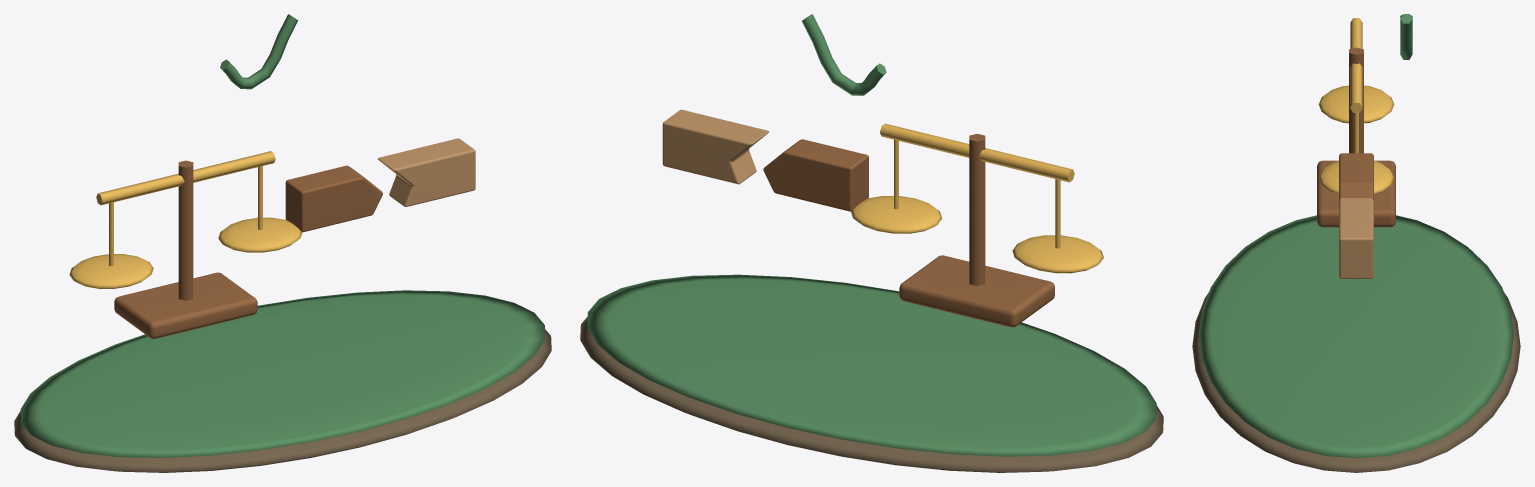
The model's file is complete-third-judged-cut.glb.
The picture shows the model from 3 angles, left to right: view 1: azimuth 30°, elevation 25°; view 2: azimuth 150°, elevation 25°; view 3: azimuth 270°, elevation 25°; orthographic projection. The views are drawn at different scales.
Visible parts, largest first — view 1: complete-third-judged-cut_surface_01, complete-third-judged-cut_surface_02, complete-third-judged-cut_surface_00, complete-third-judged-cut_surface_03, complete-third-judged-cut_surface_04; view 2: complete-third-judged-cut_surface_01, complete-third-judged-cut_surface_02, complete-third-judged-cut_surface_00, complete-third-judged-cut_surface_03, complete-third-judged-cut_surface_04; view 3: complete-third-judged-cut_surface_01, complete-third-judged-cut_surface_00, complete-third-judged-cut_surface_02, complete-third-judged-cut_surface_03, complete-third-judged-cut_surface_04.
Boxes of the visible parts, box(x1,y1,x2,y2) form: complete-third-judged-cut_surface_01: box(20, 14, 545, 457); complete-third-judged-cut_surface_02: box(114, 160, 382, 338); complete-third-judged-cut_surface_00: box(14, 329, 551, 472); complete-third-judged-cut_surface_03: box(69, 151, 302, 288); complete-third-judged-cut_surface_04: box(377, 138, 475, 206); complete-third-judged-cut_surface_01: box(587, 14, 1156, 456); complete-third-judged-cut_surface_02: box(763, 133, 1054, 327); complete-third-judged-cut_surface_00: box(580, 317, 1163, 472); complete-third-judged-cut_surface_03: box(851, 123, 1103, 273); complete-third-judged-cut_surface_04: box(662, 109, 768, 184); complete-third-judged-cut_surface_01: box(1199, 14, 1513, 458); complete-third-judged-cut_surface_00: box(1192, 292, 1520, 472); complete-third-judged-cut_surface_02: box(1317, 47, 1395, 227); complete-third-judged-cut_surface_03: box(1318, 18, 1394, 194); complete-third-judged-cut_surface_04: box(1339, 198, 1373, 278).
Bounding box in the file's own units: 4.56 × 3.05 × 2.5.
